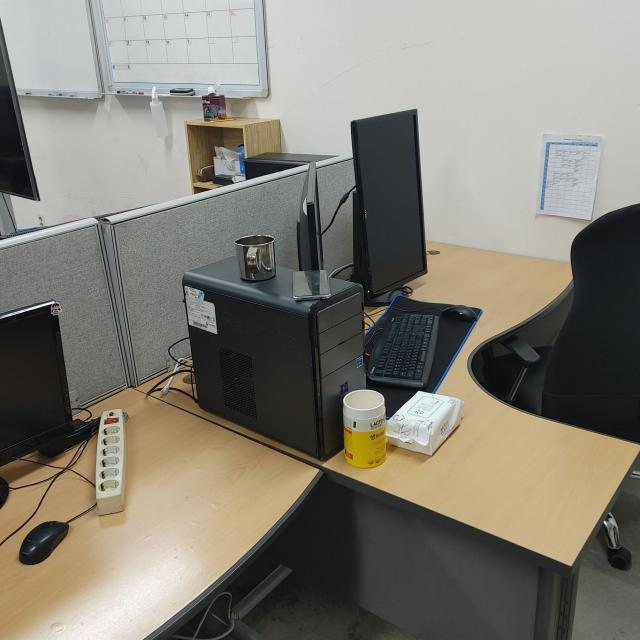cup: (234, 233, 279, 283)
phone: (291, 268, 333, 304)
